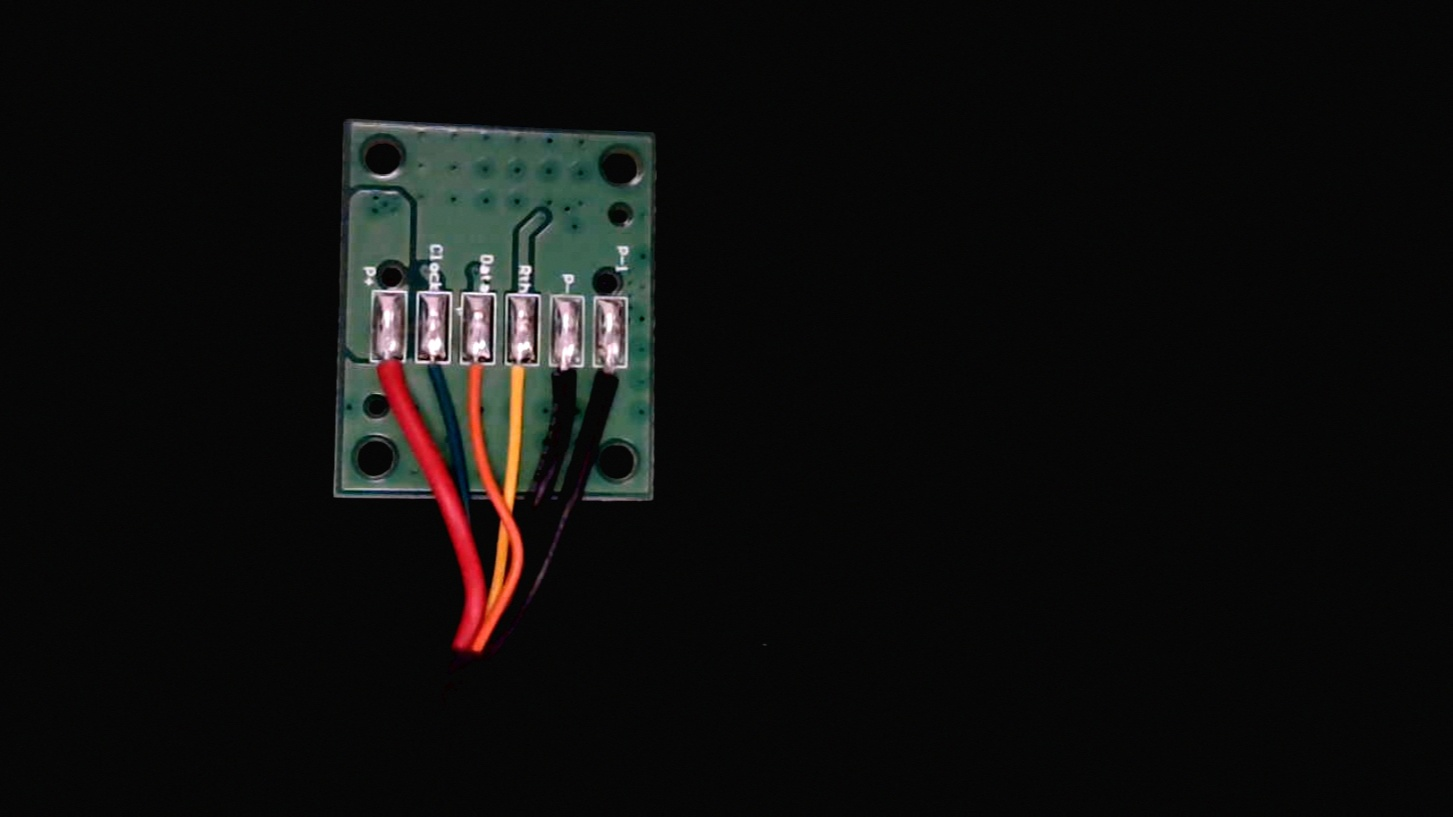Black: (551, 345, 588, 423)
Black1: (596, 347, 634, 429)
Green: (420, 342, 457, 419)
Orange: (461, 343, 497, 423)
Red: (374, 342, 411, 419)
Yellow: (510, 343, 541, 417)
